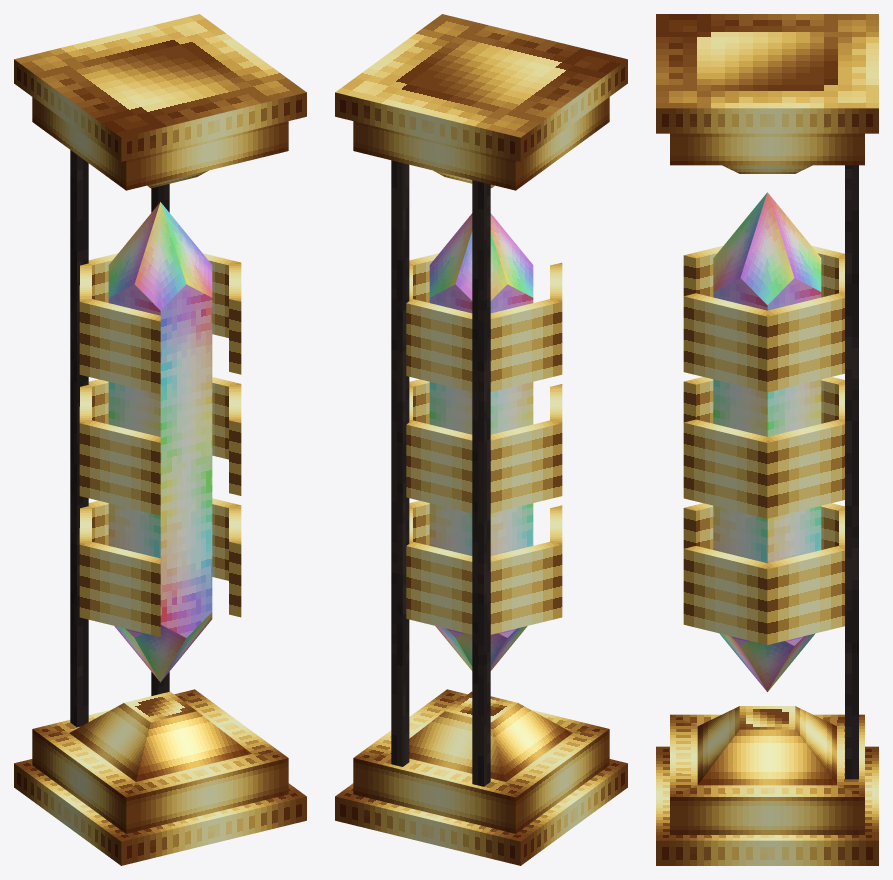
Rendered from matrix_repository.obj.
The picture shows the model from 3 angles, left to right: view 1: azimuth 30°, elevation 25°; view 2: azimuth 150°, elevation 25°; view 3: azimuth 270°, elevation 25°; orthographic projection. The views are drawn at different scales.
Parts seen in each view (by area): view 1: Base, Crystal, Reader, Struts; view 2: Base, Reader, Struts, Crystal; view 3: Base, Reader, Crystal, Struts.
Boxes of the visible parts, x1,y1,x2,y2 form: Base: (14, 14, 306, 865); Crystal: (108, 202, 212, 682); Reader: (79, 253, 241, 636); Struts: (70, 150, 169, 727); Base: (335, 14, 627, 865); Reader: (406, 253, 562, 634); Struts: (391, 160, 490, 786); Crystal: (429, 213, 533, 670); Base: (656, 14, 878, 865); Reader: (683, 245, 844, 644); Crystal: (713, 192, 821, 691); Struts: (845, 165, 858, 779).
Bounding box in the file's own units: 0.7874 × 2.95 × 0.7874.
